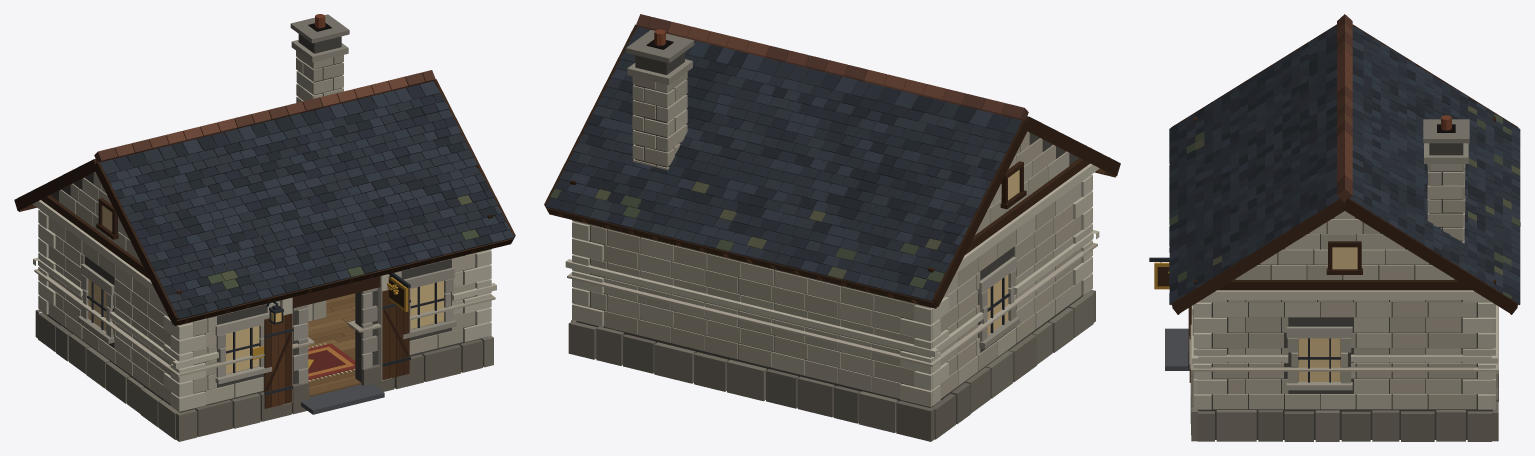
Rendered from bank.glb.
The picture shows the model from 3 angles, left to right: view 1: azimuth 30°, elevation 25°; view 2: azimuth 150°, elevation 25°; view 3: azimuth 270°, elevation 25°; orthographic projection. The views are drawn at different scales.
Visible parts, largest first — view 1: bank_shell, bank_interior, bank_glass, bank_cap; view 2: bank_shell, bank_cap, bank_glass; view 3: bank_shell, bank_glass, bank_cap.
Boxes of the visible parts, bbox=[...] form: bank_shell: bbox=[14, 14, 515, 441]; bank_interior: bbox=[307, 293, 361, 396]; bank_glass: bbox=[88, 205, 443, 374]; bank_cap: bbox=[34, 269, 495, 376]; bank_shell: bbox=[544, 14, 1120, 441]; bank_cap: bbox=[567, 243, 1097, 366]; bank_glass: bbox=[987, 170, 1019, 334]; bank_shell: bbox=[1149, 14, 1520, 441]; bank_glass: bbox=[1298, 247, 1357, 381]; bank_cap: bbox=[1190, 306, 1498, 371].
Bounding box in the file's own units: 9.94 × 7.72 × 8.78.
